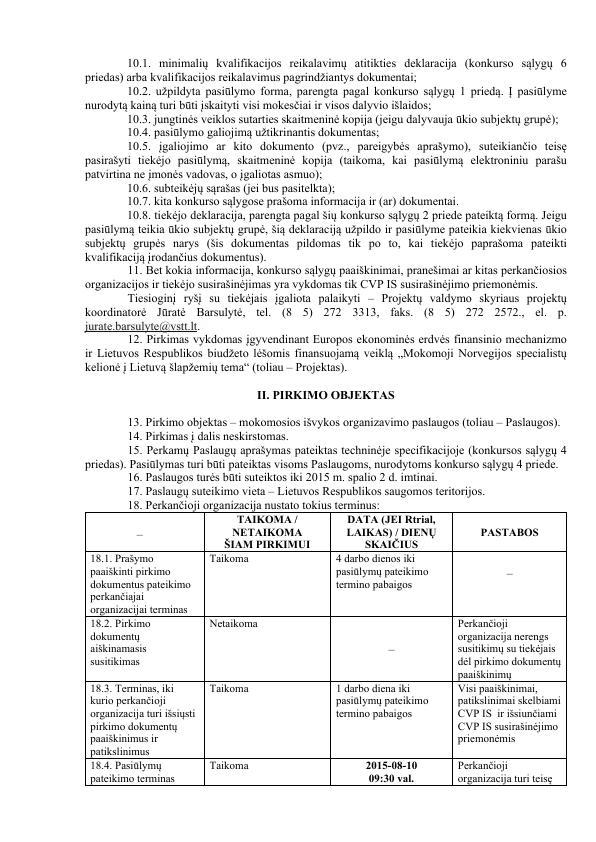table: (78, 511, 573, 792)
text: (79, 54, 573, 380), (81, 415, 572, 509), (252, 387, 399, 404)
